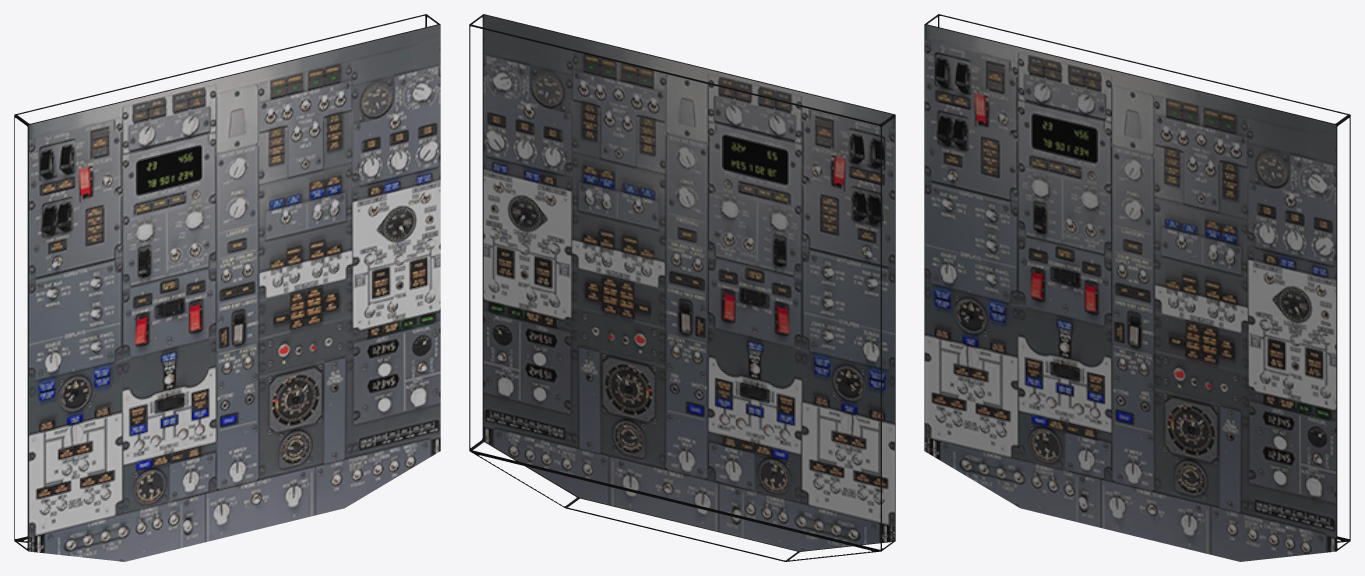
The model's file is Panel2.fbx.
3 renders of one model, left to right at view 1: azimuth 30°, elevation 25°; view 2: azimuth 150°, elevation 25°; view 3: azimuth 330°, elevation 25°, orthographic.
Parts seen in each view (by area): view 1: Plane; view 2: Plane; view 3: Plane.
Part boxes in pixels (x1=…): Plane: x1=14, y1=14, x2=440, y2=561; Plane: x1=469, y1=14, x2=895, y2=561; Plane: x1=924, y1=14, x2=1350, y2=561.
Bounding box in the file's own units: 411 × 439 × 24.95.
Materials: 1 (1 with a texture image).
